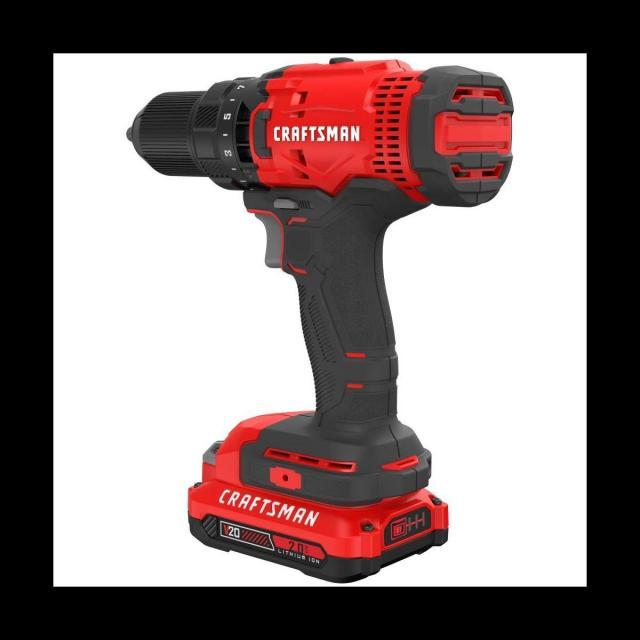drill: (126, 56, 515, 584)
